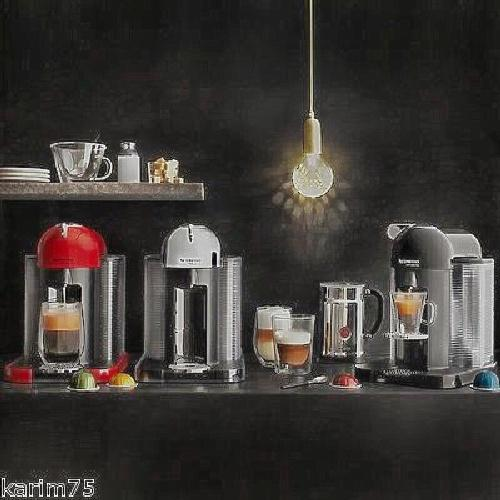coffee_maker: (144, 223, 253, 389), (382, 229, 490, 384), (27, 230, 131, 387)
